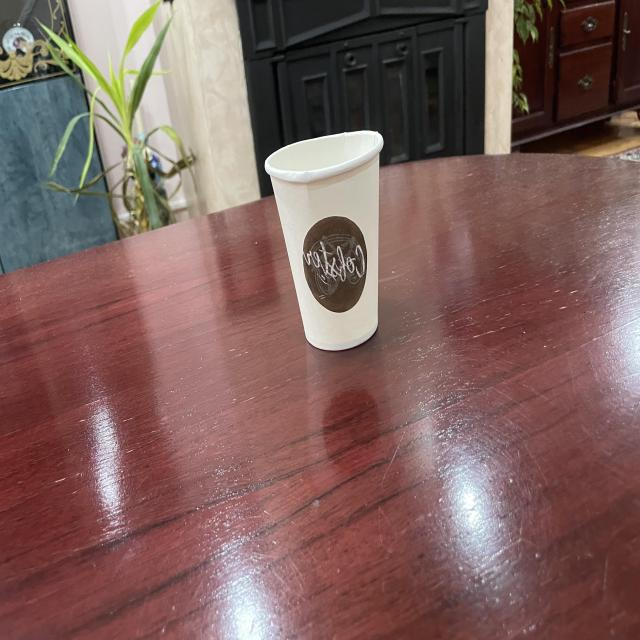medium: (261, 119, 392, 360)
